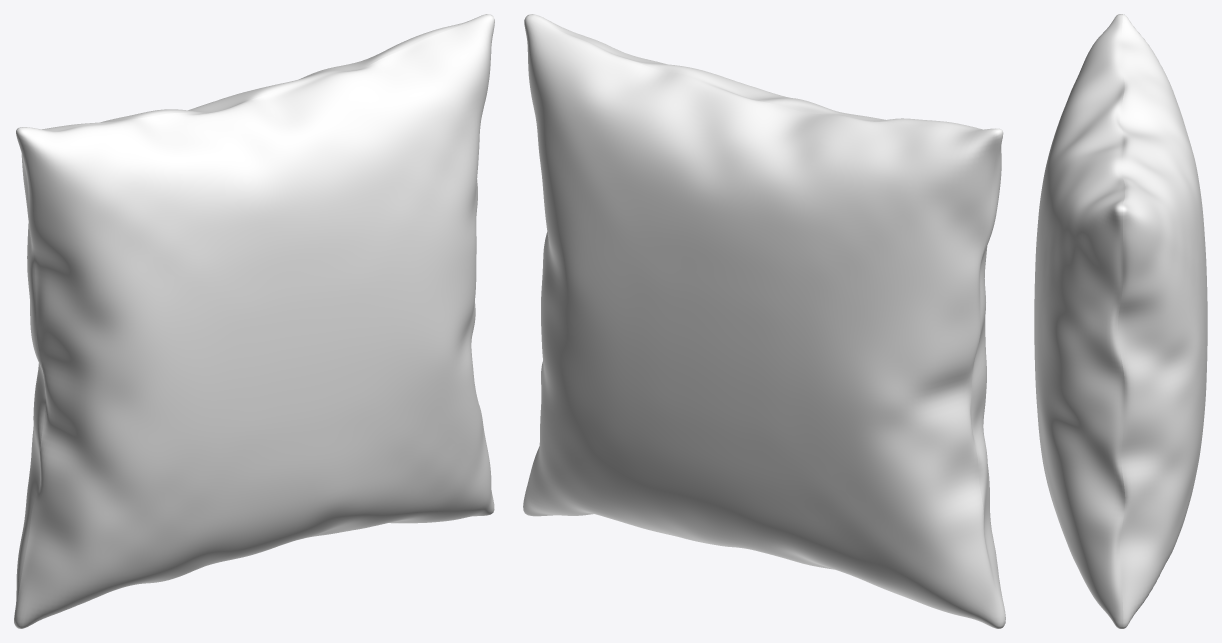
Rendered from cushion.glb.
The picture shows the model from 3 angles, left to right: view 1: azimuth 30°, elevation 25°; view 2: azimuth 150°, elevation 25°; view 3: azimuth 270°, elevation 25°; orthographic projection. The views are drawn at different scales.
Parts seen in each view (by area): view 1: Front, Back; view 2: Back, Front; view 3: Front, Back.
Part boxes in pixels (bbox=[...]): Front: bbox=[14, 14, 494, 628]; Back: bbox=[14, 14, 486, 622]; Back: bbox=[523, 16, 1002, 628]; Front: bbox=[526, 14, 1005, 628]; Front: bbox=[1034, 14, 1125, 628]; Back: bbox=[1118, 14, 1207, 628].
Bounding box in the file's own units: 0.4008 × 0.3996 × 0.1489.
Materials: 2 (2 with a texture image).
